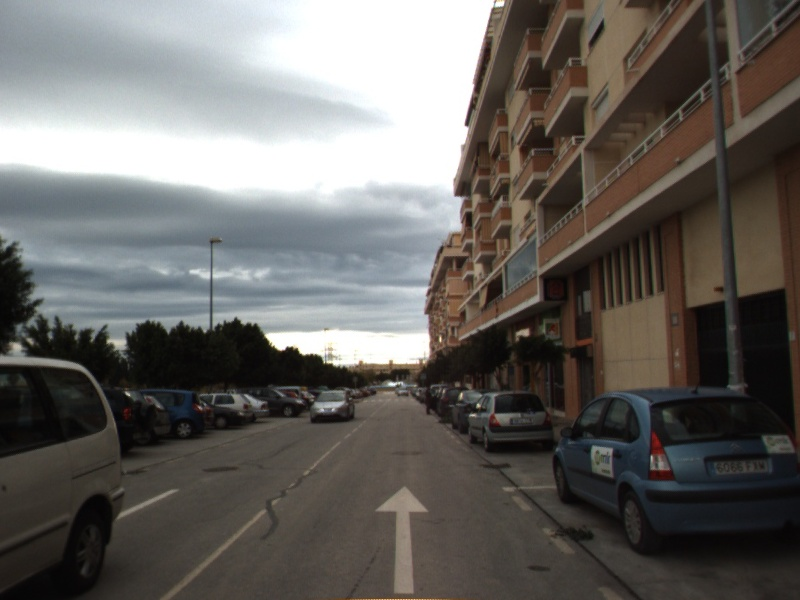STRAIGHT: (373, 483, 432, 596)
